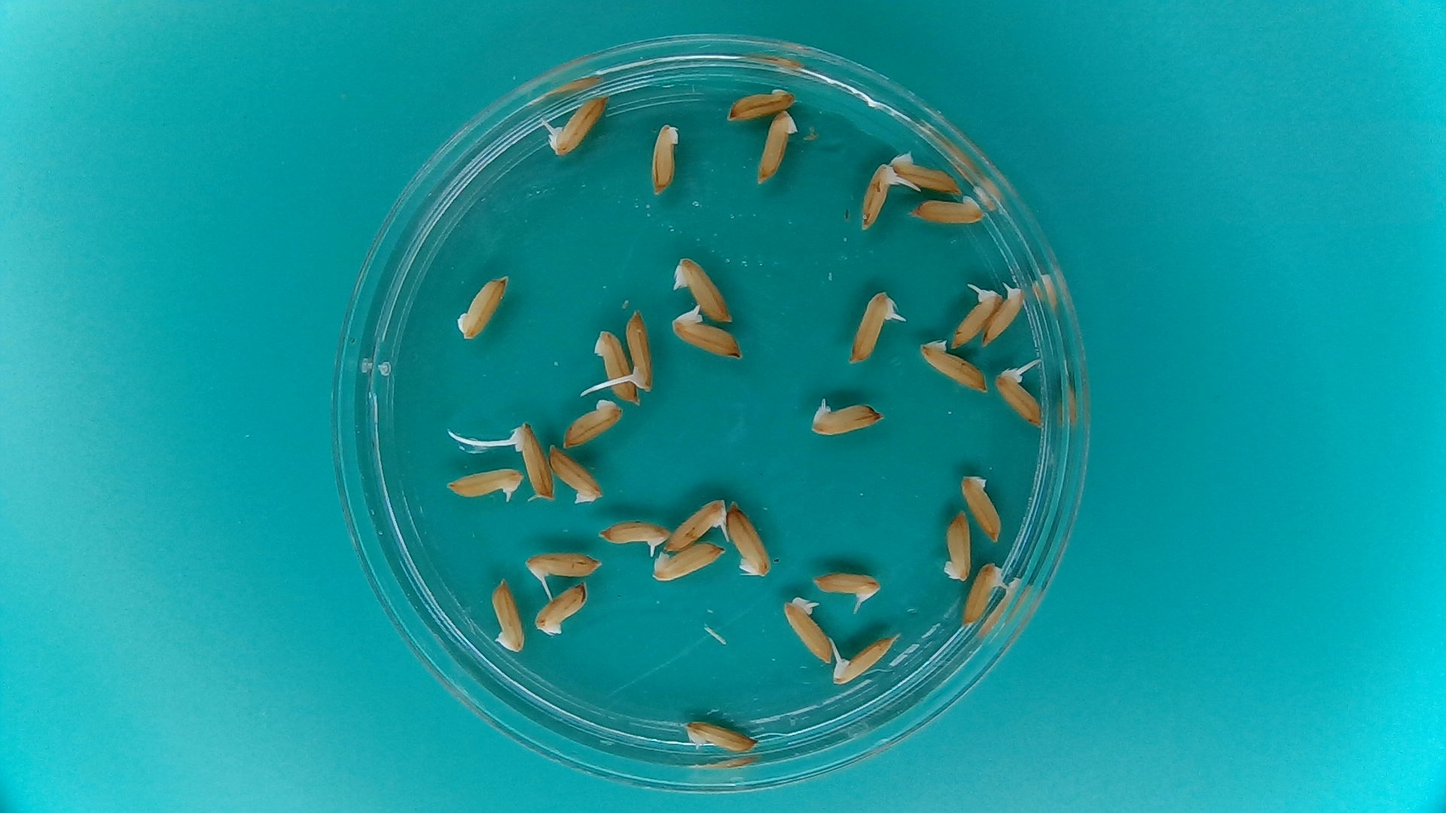no: (915, 336, 991, 397), (453, 269, 513, 343), (725, 499, 775, 579), (957, 467, 1008, 543), (544, 443, 605, 504), (888, 149, 964, 196), (560, 395, 625, 449), (532, 579, 592, 637), (652, 541, 730, 583), (756, 110, 799, 184), (680, 717, 761, 756), (593, 330, 636, 403), (488, 574, 526, 655), (648, 115, 684, 200), (940, 504, 975, 585), (723, 85, 798, 122), (908, 192, 987, 226)
yes: (673, 259, 736, 324), (663, 495, 728, 553), (850, 291, 899, 365), (783, 599, 834, 668), (665, 314, 743, 359), (443, 464, 526, 505), (521, 548, 604, 588), (829, 635, 894, 685), (806, 397, 883, 439), (549, 99, 603, 157), (959, 562, 1005, 630), (979, 284, 1028, 345), (512, 423, 550, 501), (623, 306, 657, 392), (950, 287, 996, 347), (996, 368, 1044, 424), (859, 165, 897, 231), (600, 521, 670, 556), (807, 572, 880, 604)
